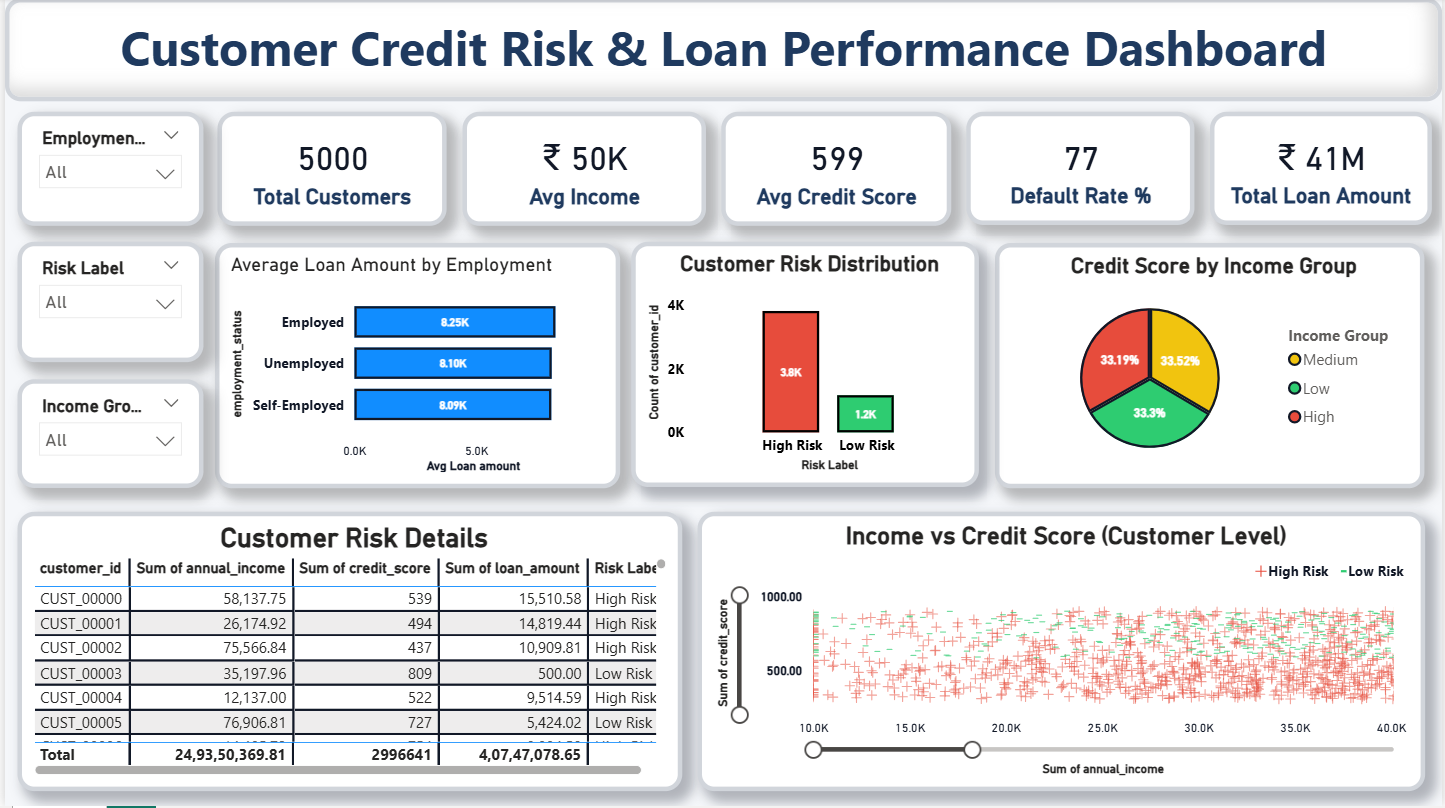

What the dashboard file says about the page in this screenshot:
{"tool":"powerbi","page":{"name":"Page 1","canvas":[1280,720],"ordinal":0},"visuals":[{"type":"card","fields":{"Values":["credit_risk_dataset.Total Customers"]},"box":[189.6,101.3,203.9,101.3],"z":0},{"type":"textbox","box":[0,0,1280.3,91.7],"z":1000},{"type":"card","fields":{"Values":["credit_risk_dataset.Avg Income"]},"box":[406.9,101.3,217.2,101.3],"z":2000},{"type":"card","fields":{"Values":["credit_risk_dataset.Avg Credit Score"]},"box":[637.5,101.3,205.1,101.3],"z":3000},{"type":"card","fields":{"Values":["credit_risk_dataset.Default Rate"]},"box":[856,101.8,203.5,100.5],"z":4000},{"type":"card","fields":{"Values":["credit_risk_dataset.Total Loan"]},"box":[1073,101.8,197.3,100.5],"z":5000},{"type":"barChart","title":"Average Loan Amount by Employment","fields":{"Category":["credit_risk_dataset.employment_status"],"Y":["credit_risk_dataset.Avg Loan amount"]},"box":[187,218.4,360.7,218.4],"z":6000},{"type":"pieChart","fields":{"Category":["credit_risk_dataset.Risk Label"],"Y":["CountNonNull(credit_risk_dataset.customer_id)"]},"box":[988.8,502.6,251.3,135.7],"z":7000},{"type":"tableEx","title":"Customer Risk Details","fields":{"Values":["credit_risk_dataset.customer_id","Sum(credit_risk_dataset.annual_income)","Sum(credit_risk_dataset.credit_score)","Sum(credit_risk_dataset.loan_amount)","credit_risk_dataset.Risk Label"]},"box":[189.4,457.2,472.9,248.5],"z":8000},{"type":"pieChart","title":"Credit Score by Income Group","fields":{"Category":["credit_risk_dataset.Income Group"],"Y":["credit_risk_dataset.Avg Credit Score"]},"box":[881.6,218.1,382.1,218.1],"z":9000},{"type":"slicer","fields":{"Values":["credit_risk_dataset.employment_status"]},"box":[10.9,101.3,165.3,101.3],"z":10000},{"type":"scatterChart","title":"Income vs Credit Score (Customer Level)","fields":{"X":["Sum(credit_risk_dataset.annual_income)"],"Y":["Sum(credit_risk_dataset.credit_score)"],"Series":["credit_risk_dataset.Risk Label"],"Category":["credit_risk_dataset.customer_id"]},"box":[675.6,457.2,588.7,248.5],"z":12000},{"type":"columnChart","title":"Customer Risk Distribution","fields":{"Category":["credit_risk_dataset.Risk Label"],"Y":["CountNonNull(credit_risk_dataset.customer_id)"]},"box":[558.2,216.6,309.9,218.1],"z":13000},{"type":"slicer","fields":{"Values":["credit_risk_dataset.Risk Label"]},"box":[10.9,217.2,165.3,107.4],"z":14000},{"type":"slicer","fields":{"Values":["credit_risk_dataset.Income Group"]},"box":[10.9,339,165.3,96.5],"z":15000},{"type":"slicer","fields":{"Values":["credit_risk_dataset.gender"]},"box":[10.9,457.2,165.3,113.4],"z":15001},{"type":"slicer","fields":{"Values":["credit_risk_dataset.credit_risk"]},"box":[12.1,581.5,164.1,124.3],"z":15002}]}

Visuals, with their boxes in screenshot pixels (x1, y1, x2, y2), scaled from the page's 1280x720 canvas onto the 1445x808 screenshot:
card - credit_risk_dataset.Total Customers: x1=214, y1=114, x2=444, y2=227
textbox: x1=0, y1=0, x2=1444, y2=103
card - credit_risk_dataset.Avg Income: x1=459, y1=114, x2=705, y2=227
card - credit_risk_dataset.Avg Credit Score: x1=720, y1=114, x2=951, y2=227
card - credit_risk_dataset.Default Rate: x1=966, y1=114, x2=1196, y2=227
card - credit_risk_dataset.Total Loan: x1=1211, y1=114, x2=1434, y2=227
"Average Loan Amount by Employment" barChart: x1=211, y1=245, x2=618, y2=490
pieChart - credit_risk_dataset.Risk Label x CountNonNull(credit_risk_dataset.customer_id): x1=1116, y1=564, x2=1400, y2=716
"Customer Risk Details" tableEx: x1=214, y1=513, x2=748, y2=792
"Credit Score by Income Group" pieChart: x1=995, y1=245, x2=1427, y2=490
slicer - credit_risk_dataset.employment_status: x1=12, y1=114, x2=199, y2=227
"Income vs Credit Score (Customer Level)" scatterChart: x1=763, y1=513, x2=1427, y2=792
"Customer Risk Distribution" columnChart: x1=630, y1=243, x2=980, y2=488
slicer - credit_risk_dataset.Risk Label: x1=12, y1=244, x2=199, y2=364
slicer - credit_risk_dataset.Income Group: x1=12, y1=380, x2=199, y2=489
slicer - credit_risk_dataset.gender: x1=12, y1=513, x2=199, y2=640
slicer - credit_risk_dataset.credit_risk: x1=14, y1=653, x2=199, y2=792
